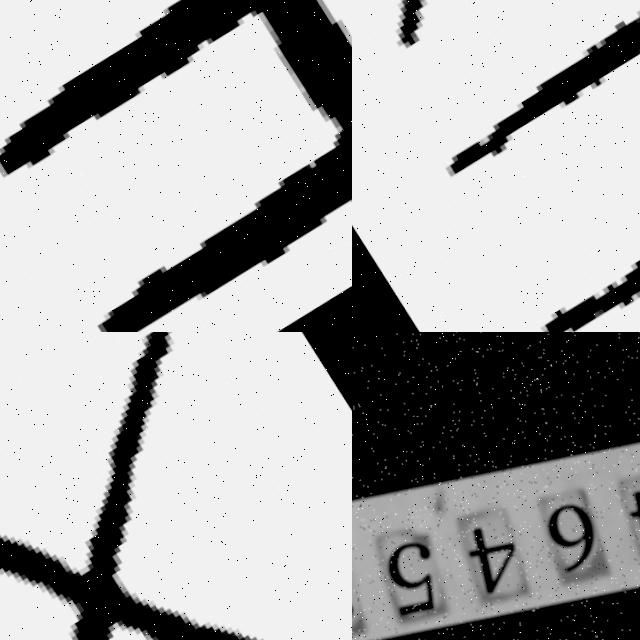3: (352, 528, 389, 640)
4: (424, 495, 553, 629), (590, 462, 640, 588)
5: (352, 512, 474, 640)
6: (504, 473, 635, 610)
F: (0, 0, 352, 332)
X: (0, 332, 352, 640)
